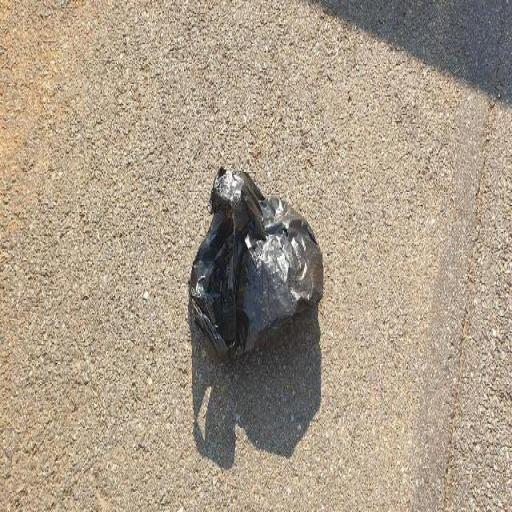plastic-bag: (186, 164, 326, 368)
